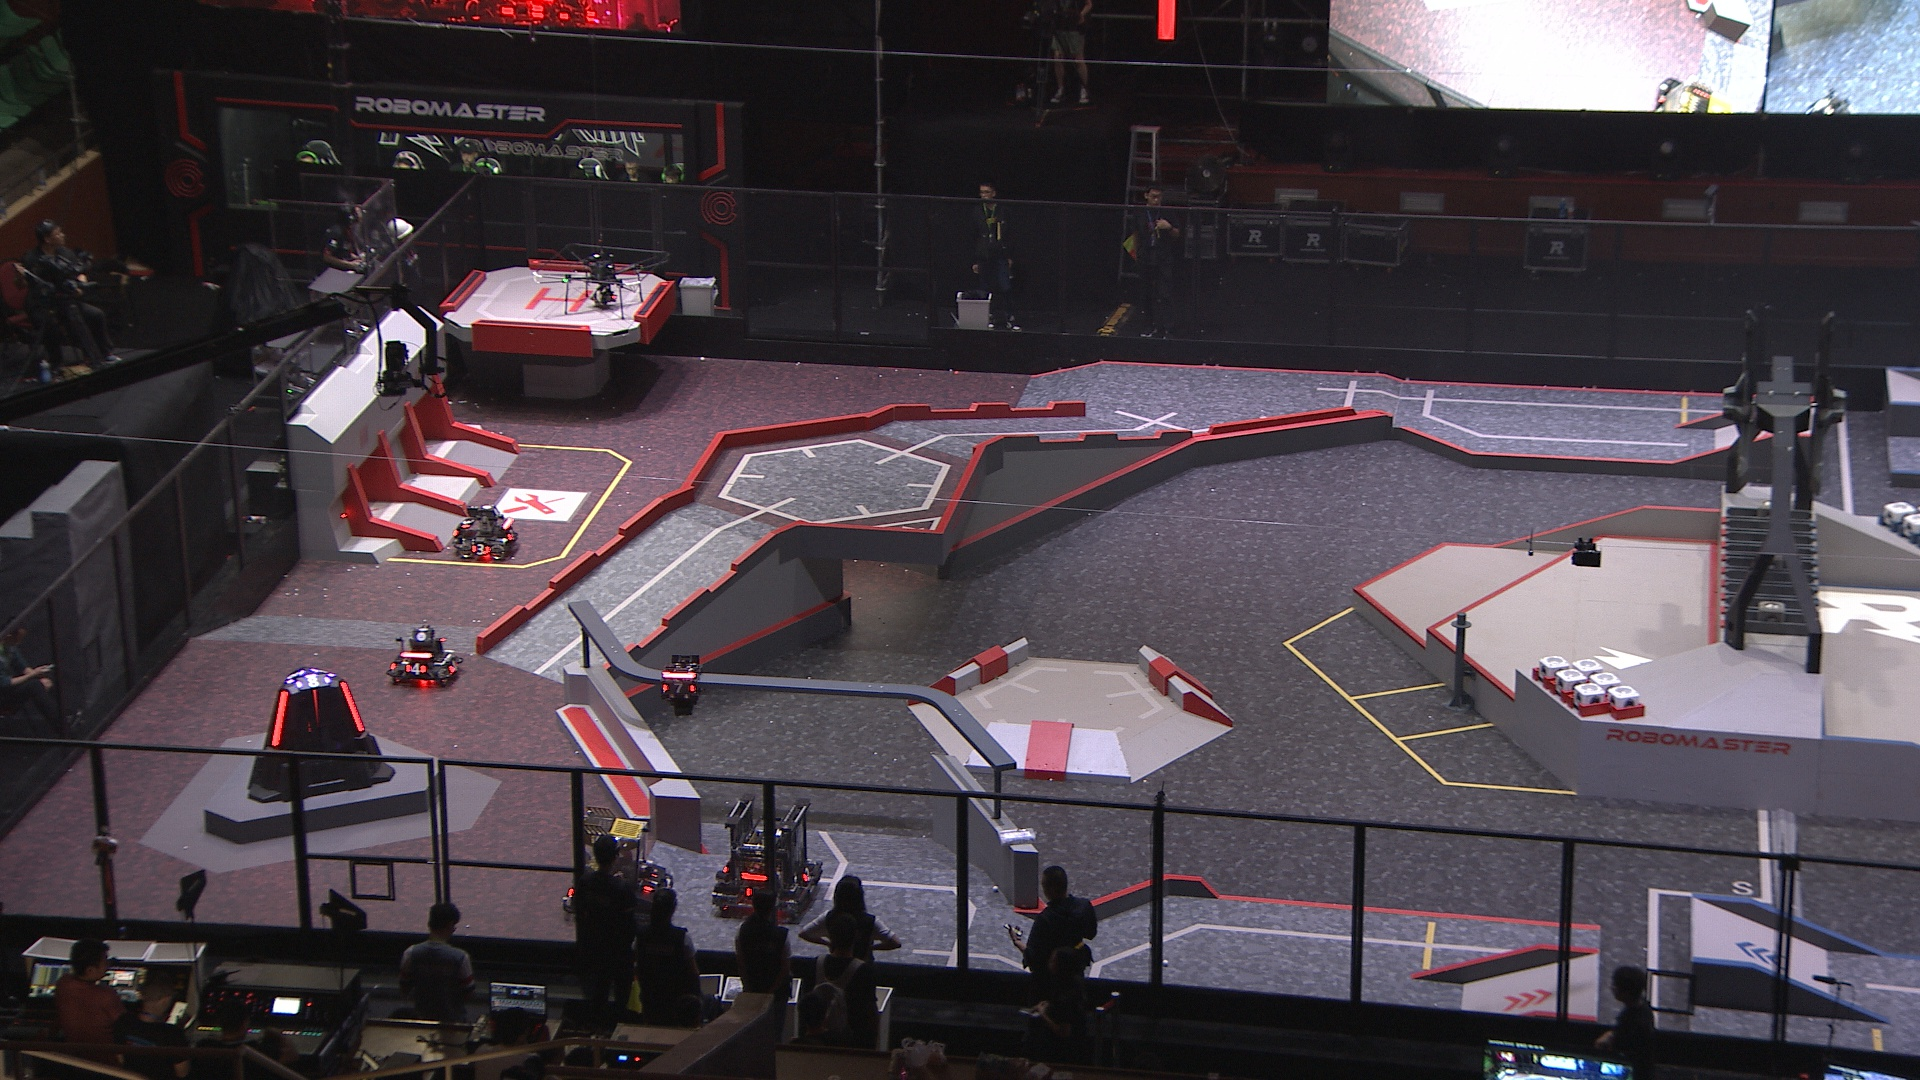armor: (338, 680, 365, 735), (268, 688, 291, 750), (640, 866, 662, 895), (662, 679, 695, 695), (310, 687, 320, 731), (404, 661, 429, 676), (798, 861, 814, 885), (444, 655, 462, 674), (469, 542, 491, 556), (502, 526, 517, 543), (460, 514, 475, 531)
base: (245, 662, 400, 806)
car: (709, 796, 823, 920), (558, 808, 674, 924), (448, 498, 529, 564), (386, 618, 467, 684)
ignore: (294, 673, 332, 690), (285, 669, 305, 684), (310, 666, 334, 676)
watcher: (659, 651, 703, 713)
